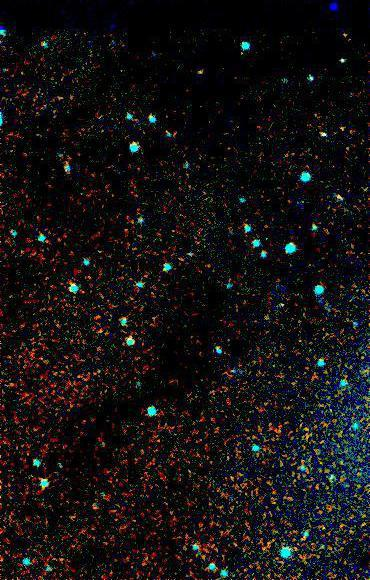star: (327, 113, 357, 143)
